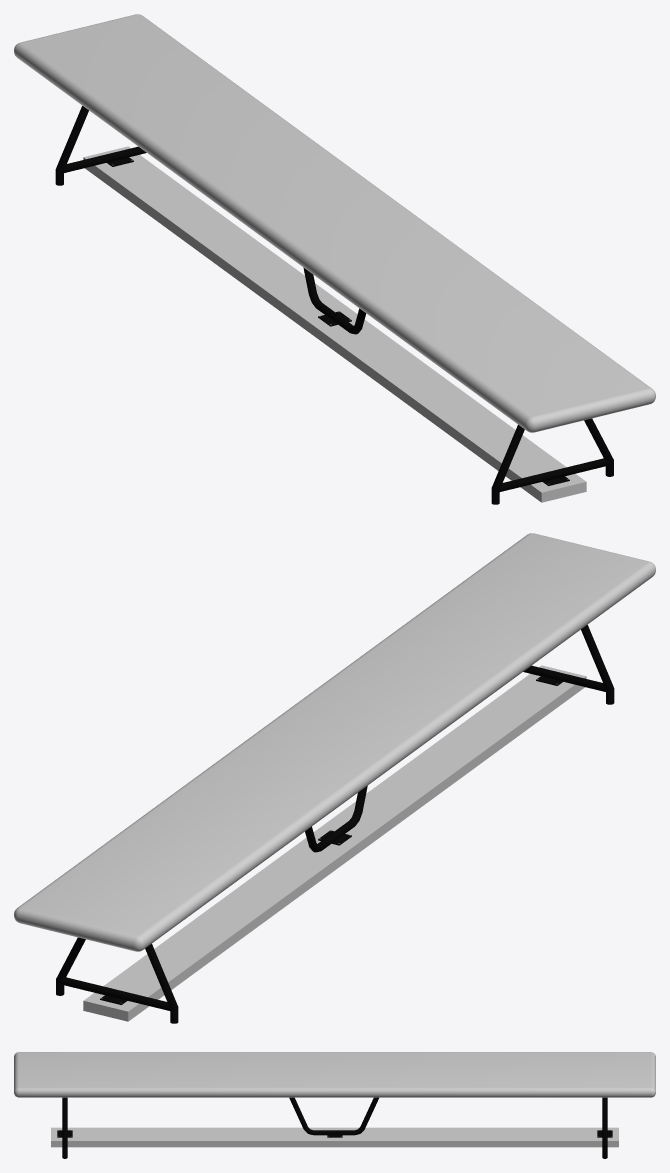
The model's file is lawisko.fbx.
3 renders of one model, top to bottom at view 1: azimuth 30°, elevation 25°; view 2: azimuth 150°, elevation 25°; view 3: azimuth 270°, elevation 25°, orthographic. The views are drawn at different scales.
Visible parts, largest first — view 1: ława.002; view 2: ława.002; view 3: ława.002.
Part boxes in pixels (<box>): ława.002: <box>14,14,655,504</box>; ława.002: <box>14,533,655,1023</box>; ława.002: <box>14,1052,655,1158</box>.
Bounding box in the file's own units: 35.79 × 30.02 × 247.
